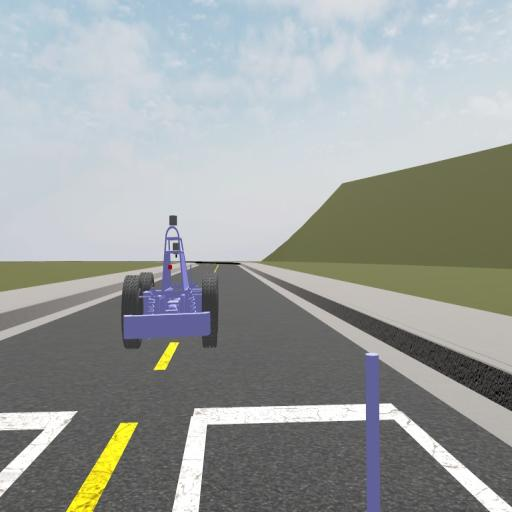ERP-42: (122, 216, 220, 350)
